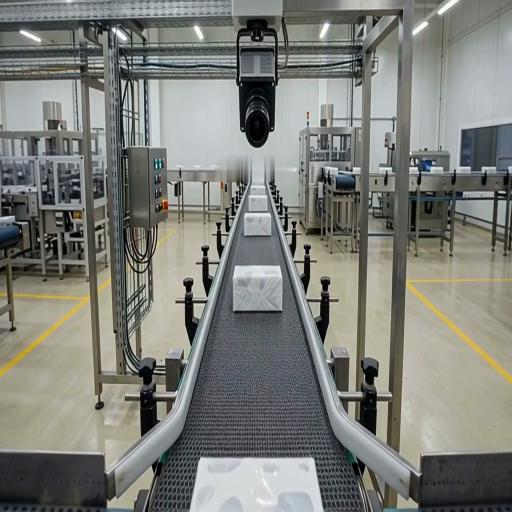good: (191, 455, 322, 511), (232, 265, 282, 313), (243, 212, 272, 236), (248, 193, 269, 213), (249, 184, 266, 196)
